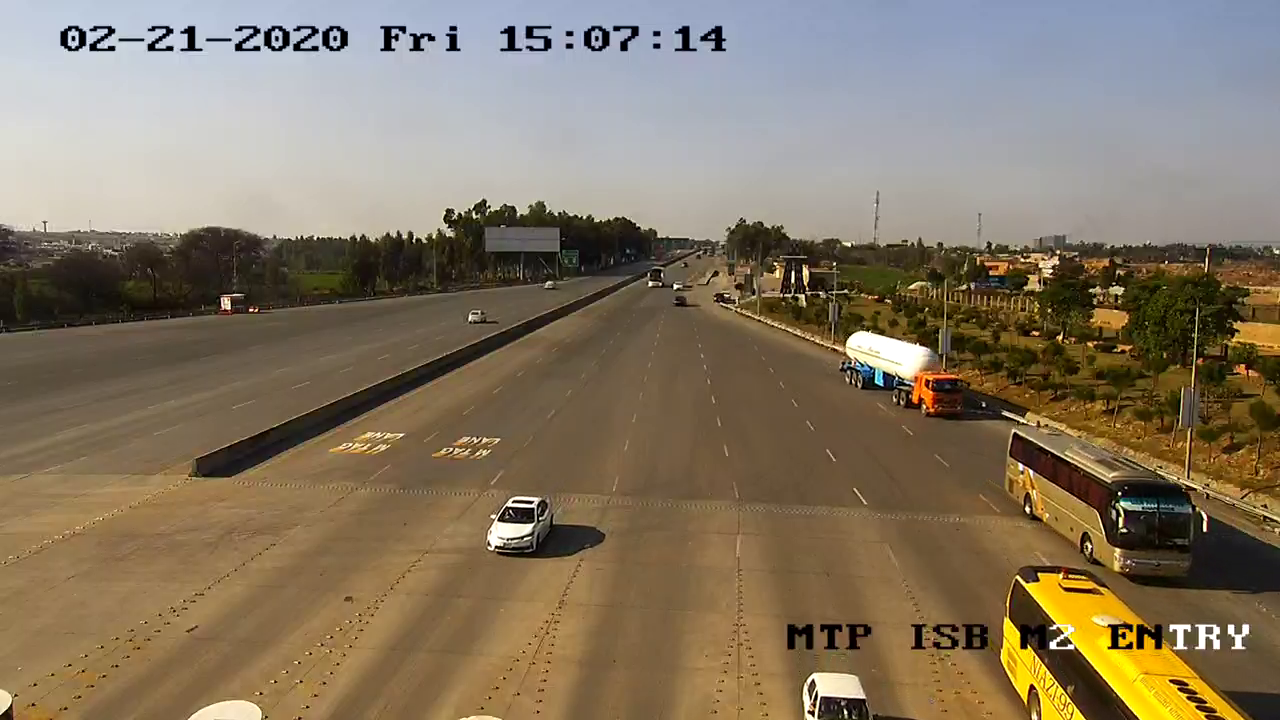f1: (472, 490, 558, 558)
f4: (997, 410, 1225, 594)
f6: (835, 318, 980, 423)
